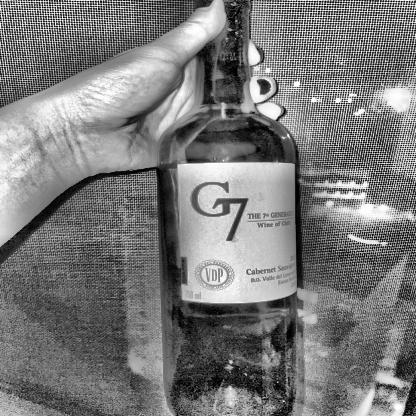G7: (174, 160, 302, 307)
